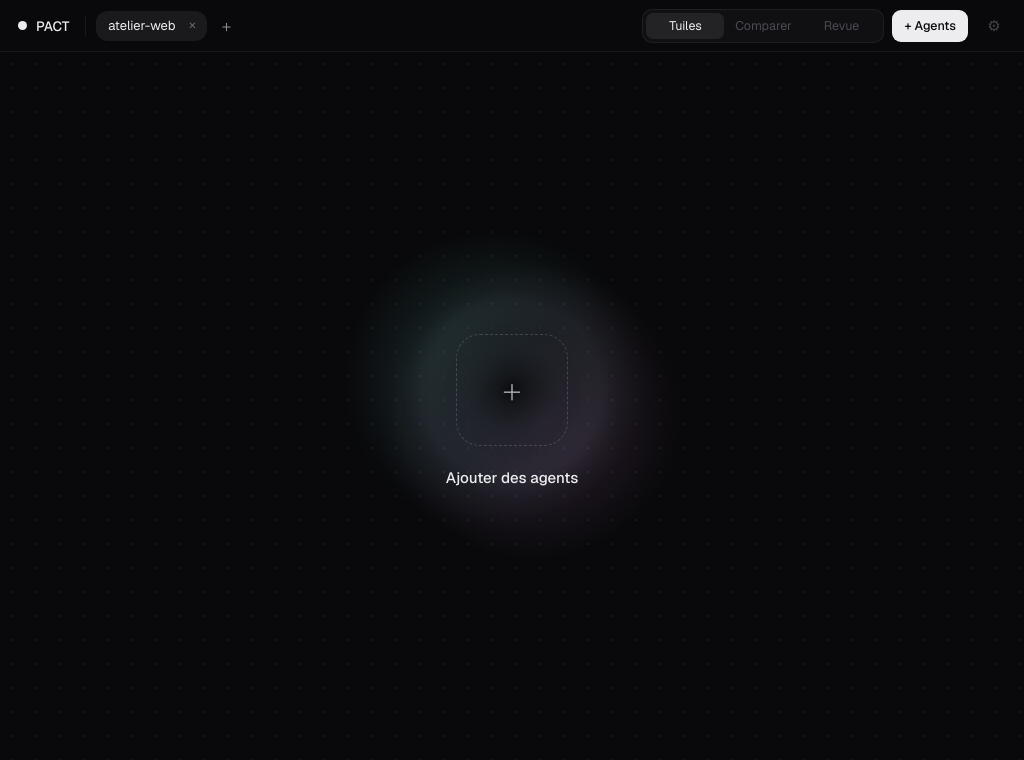
Test case: App wiring of the home actions › goes to an open workspace from home and closes its tab
Check: the tab "atelier-web" is shown, box [108, 17, 175, 34]
What coordinates should you click on to do the following:
click the button named "Nouvel onglet"
I would click on:
 (226, 26)
Its box is [211, 10, 241, 40].
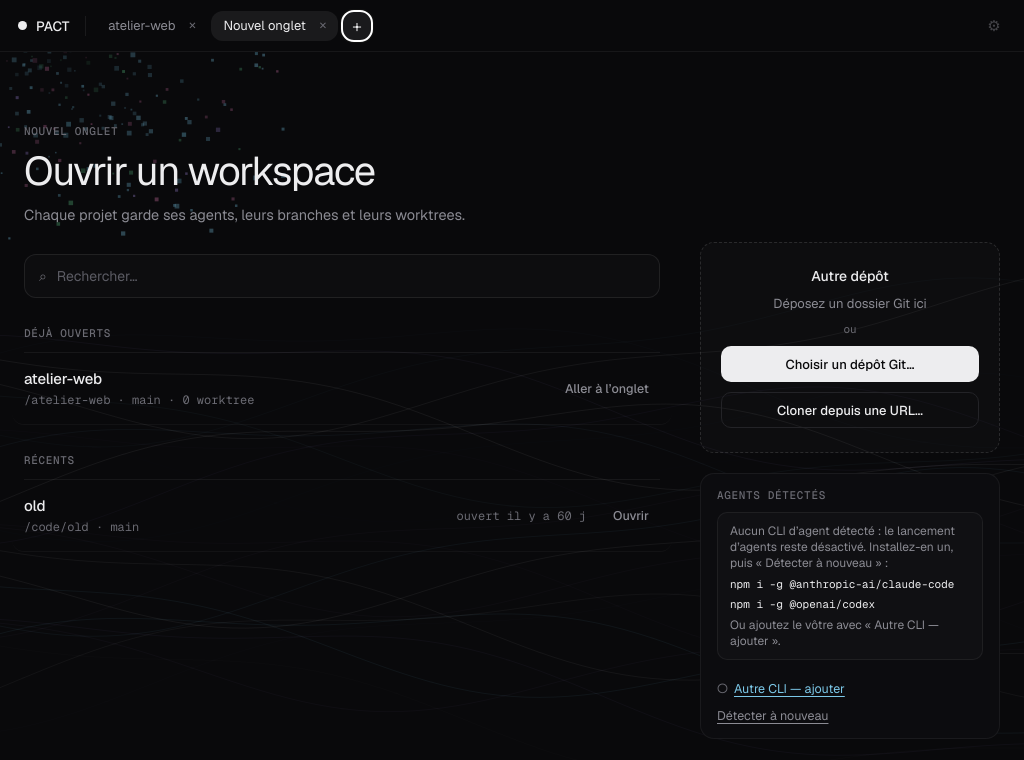
What coordinates should you click on to do the following:
click the button "Aller à l’onglet"
I would click on:
 (607, 389)
Its box is [554, 375, 660, 403].
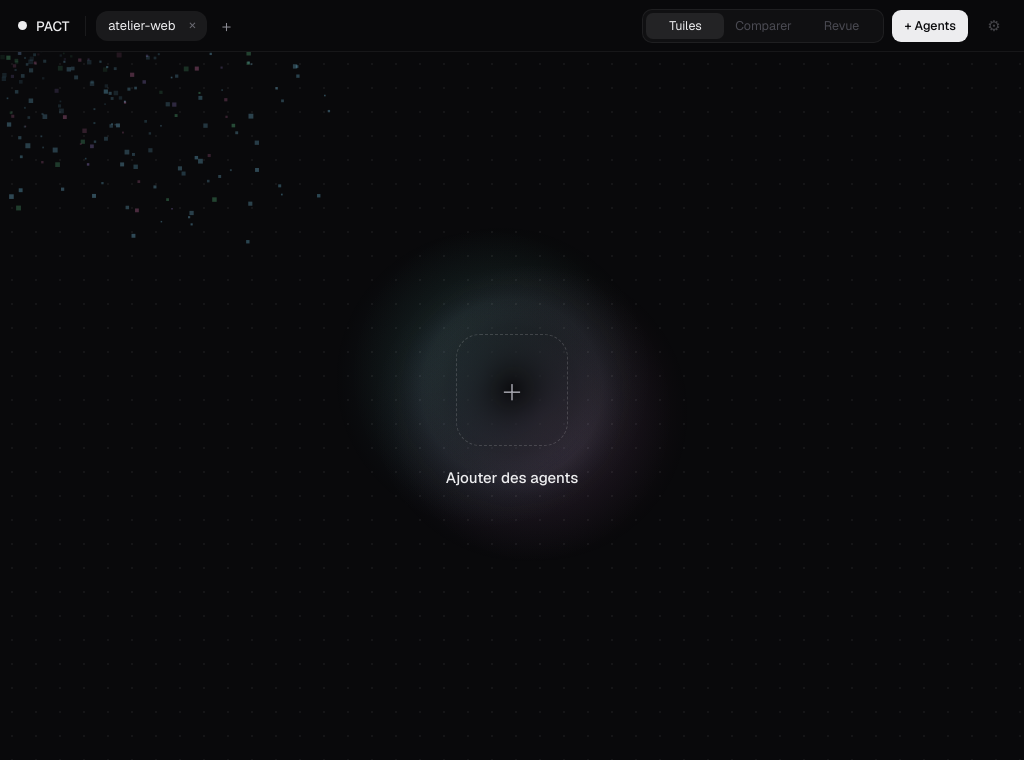
Check: the tab "atelier-web" is selected, box [108, 17, 175, 34]
What coordinates should you click on to do the following:
click the button named "Fermer atelier-web"
I would click on:
 (192, 26)
Its box is [183, 16, 201, 34].
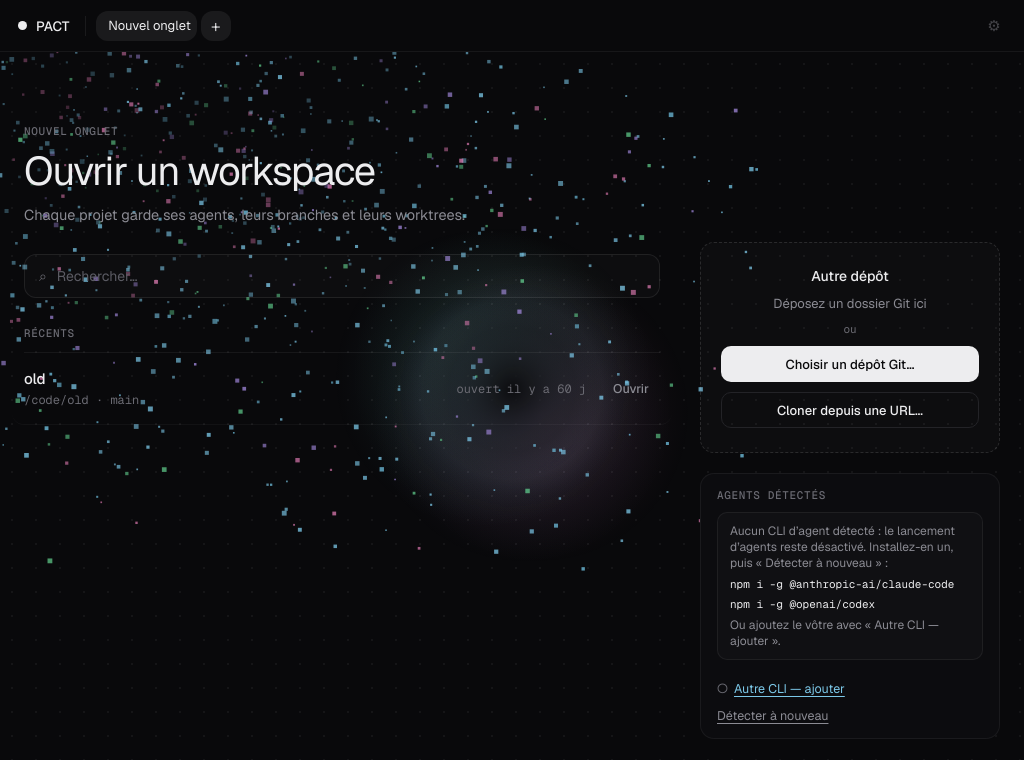
Check: the heading "Ouvrir un workspace" is shown, box [24, 145, 375, 197]
